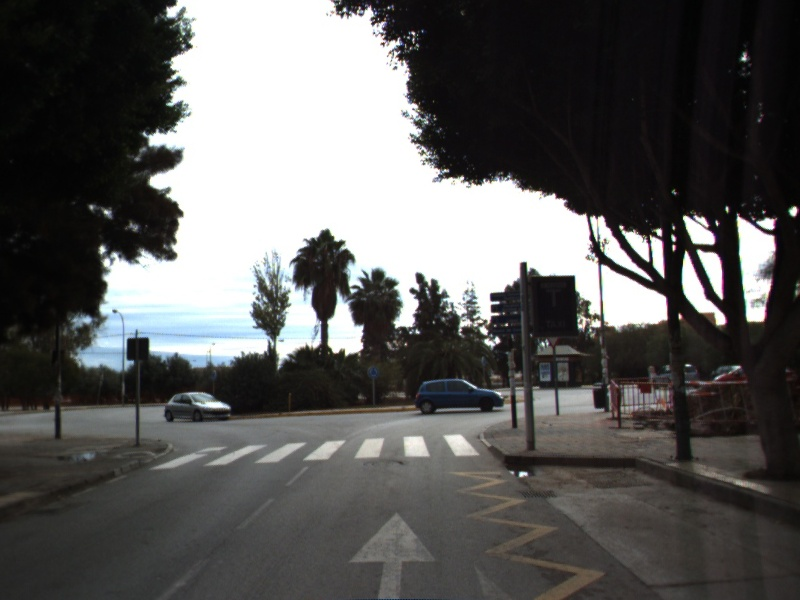STRAIGHT: (344, 507, 441, 600)
